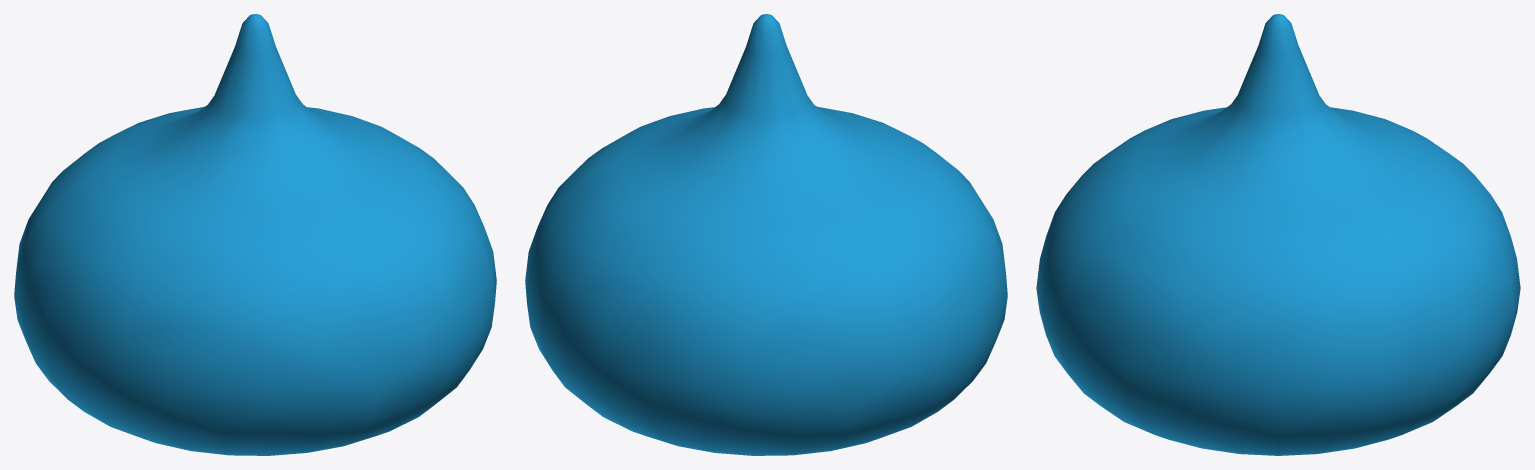
The model's file is slime_simple_middle_tri.obj.
The picture shows the model from 3 angles, left to right: view 1: azimuth 30°, elevation 25°; view 2: azimuth 150°, elevation 25°; view 3: azimuth 270°, elevation 25°; orthographic projection.
Visible parts, largest first — view 1: slime; view 2: slime; view 3: slime.
Boxes of the visible parts, box(x1,y1,x2,y2) form: slime: box(14, 14, 496, 455); slime: box(525, 14, 1007, 455); slime: box(1036, 14, 1520, 455).
Size of the model in its own units: 1.88 by 1.72 by 1.88.
